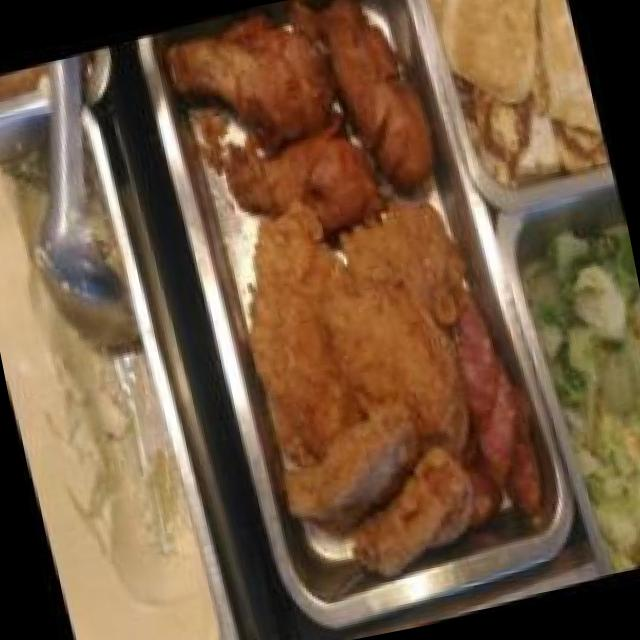chinese_sausage: (430, 296, 551, 527)
fried_chicken: (218, 178, 469, 485)
